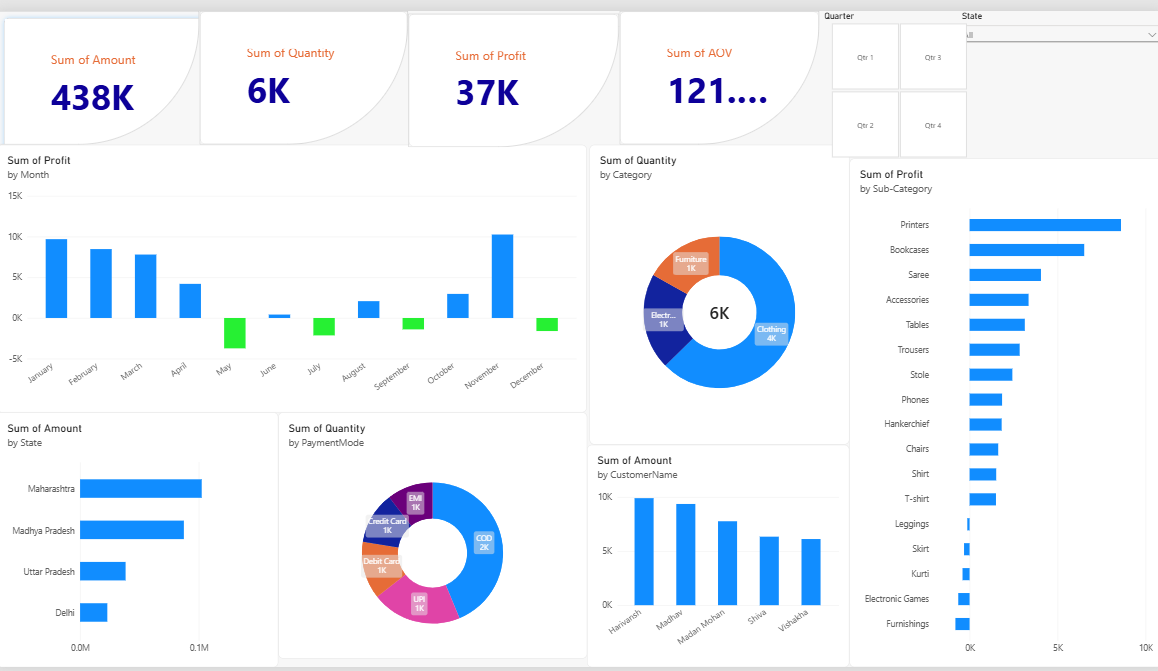

The page's visual inventory and layout, read from the dashboard file:
{"tool":"powerbi","page":{"name":"Page 1","canvas":[1920,1080],"ordinal":0},"visuals":[{"type":"columnChart","fields":{"Category":["Orders.Order Date.Variation.Date Hierarchy.Month"],"Y":["Sum(Details.Profit)"]},"box":[0,220.2,971.5,440.5],"z":0},{"type":"barChart","fields":{"Category":["Details.Sub-Category"],"Y":["Sum(Details.Profit)"]},"box":[1403.8,242.9,516.6,837.7],"z":1},{"type":"donutChart","fields":{"Category":["Details.Category"],"Y":["Sum(Details.Quantity)"]},"box":[975.6,220.2,428.1,494],"z":2},{"type":"pieChart","fields":{"Category":["Details.PaymentMode"],"Y":["Sum(Details.Quantity)"]},"box":[463.1,660.7,508.4,405.5],"z":3},{"type":"cardVisual","fields":{"Data":["Sum(Details.Amount)"]},"box":[0,0,333.4,220.2],"z":4},{"type":"cardVisual","fields":{"Data":["Sum(Details.Quantity)"]},"box":[333.4,0,343.7,220.2],"z":5},{"type":"cardVisual","fields":{"Data":["Sum(Details.Profit)"]},"box":[677.2,4.1,347.9,220.2],"z":6},{"type":"cardVisual","fields":{"Data":["Sum(Details.AOV)"]},"box":[1025,0,329.3,220.2],"z":7},{"type":"barChart","fields":{"Category":["Orders.State"],"Y":["Sum(Details.Amount)"]},"box":[0,660.7,463.1,419.9],"z":8},{"type":"columnChart","fields":{"Category":["Orders.CustomerName"],"Y":["Sum(Details.Amount)"]},"box":[971.5,714.2,432.2,366.4],"z":9},{"type":"slicer","fields":{"Values":["Orders.State"]},"box":[1580.8,0,339.6,82.3],"z":10},{"type":"slicer","fields":{"Values":["Orders.Order Date.Variation.Date Hierarchy.Quarter"]},"box":[1354.4,0,261,243],"z":11}]}

Visuals, with their boxes in screenshot pixels (x1, y1, x2, y2), scaled from the page's 1920x1080 canvas onto the 1158x671 screenshot:
columnChart - Orders.Order Date.Variation.Date Hierarchy.Month x Sum(Details.Profit): rect(0, 137, 586, 410)
barChart - Details.Sub-Category x Sum(Details.Profit): rect(847, 151, 1157, 670)
donutChart - Details.Category x Sum(Details.Quantity): rect(588, 137, 847, 444)
pieChart - Details.PaymentMode x Sum(Details.Quantity): rect(279, 410, 586, 662)
cardVisual - Sum(Details.Amount): rect(0, 0, 201, 137)
cardVisual - Sum(Details.Quantity): rect(201, 0, 408, 137)
cardVisual - Sum(Details.Profit): rect(408, 3, 618, 139)
cardVisual - Sum(Details.AOV): rect(618, 0, 817, 137)
barChart - Orders.State x Sum(Details.Amount): rect(0, 410, 279, 670)
columnChart - Orders.CustomerName x Sum(Details.Amount): rect(586, 444, 847, 670)
slicer - Orders.State: rect(953, 0, 1157, 51)
slicer - Orders.Order Date.Variation.Date Hierarchy.Quarter: rect(817, 0, 974, 151)
